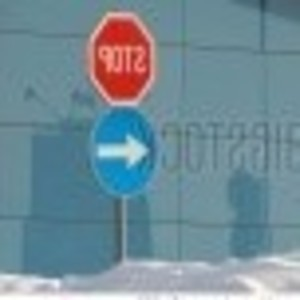trun_right: (86, 104, 163, 200)
